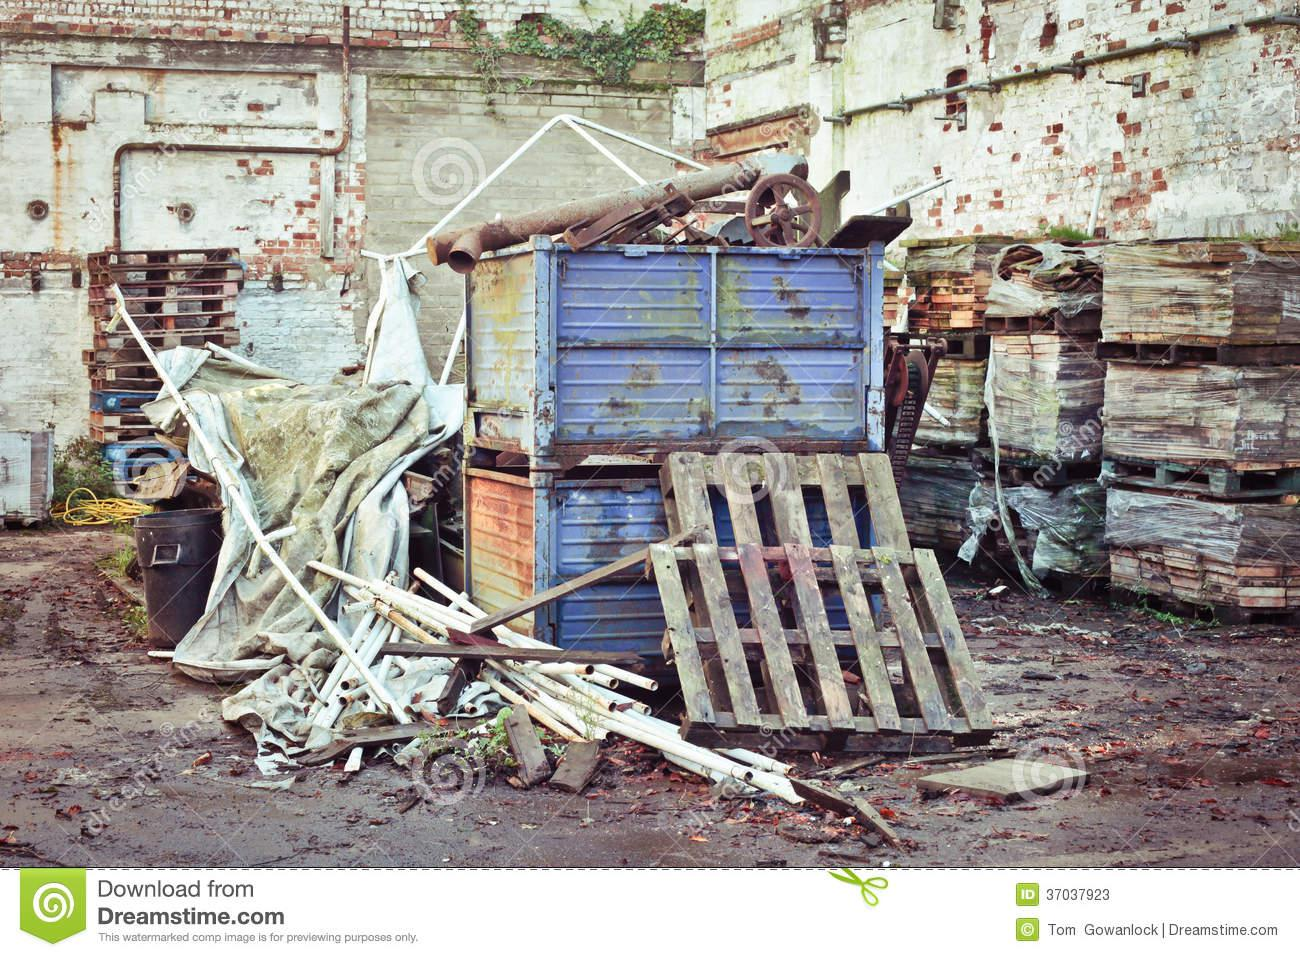wood: (646, 449, 1001, 765), (88, 256, 247, 349)
